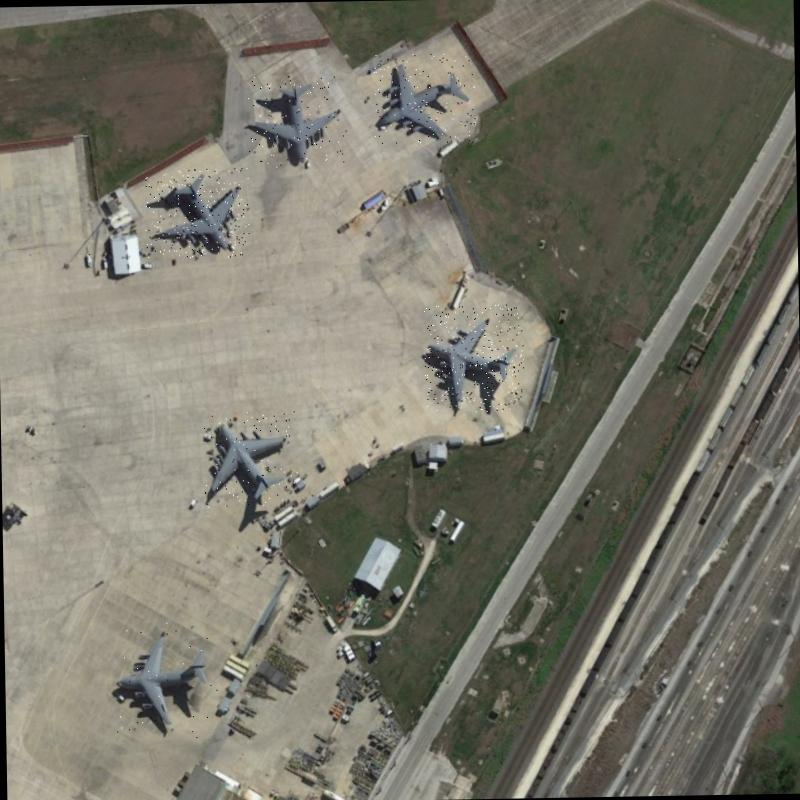A3: (112, 620, 218, 740), (424, 304, 524, 412), (144, 167, 250, 258), (372, 52, 476, 144), (203, 410, 298, 508), (247, 75, 344, 168)
